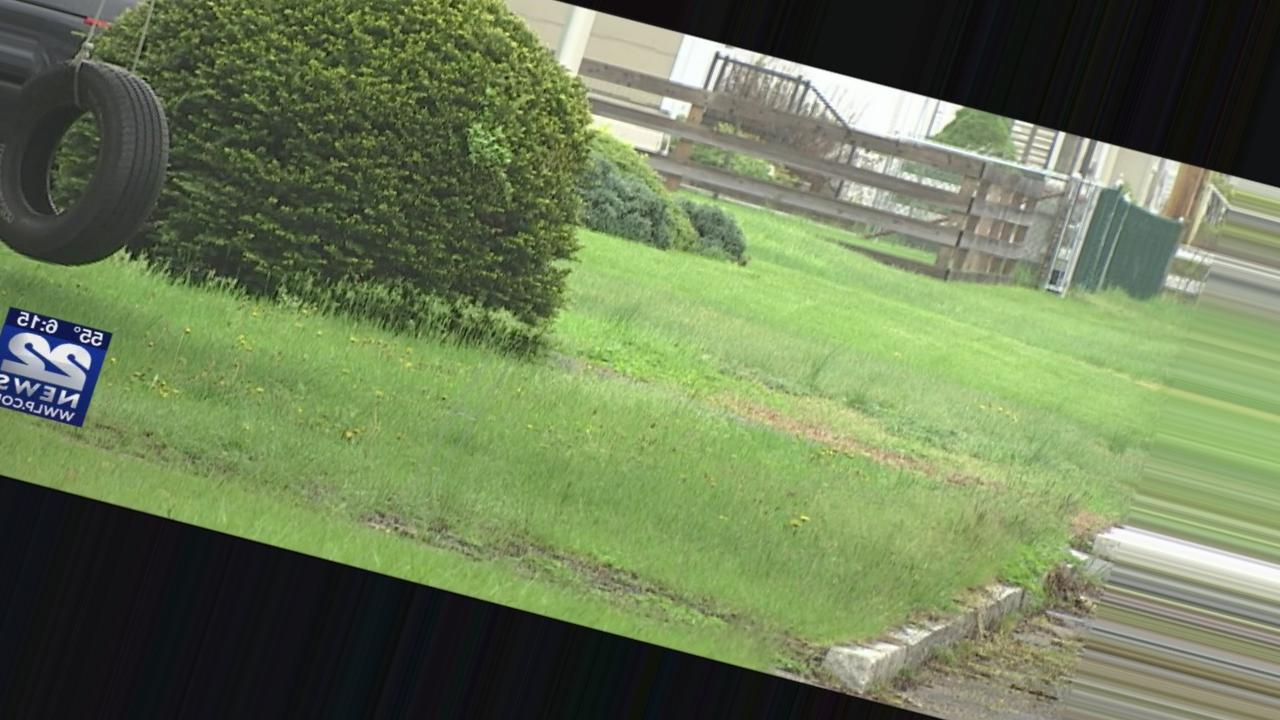patch: (731, 382, 867, 463)
